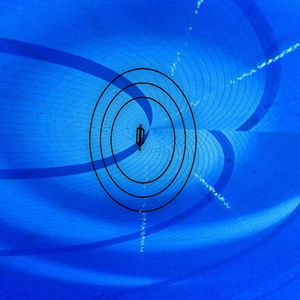circle: (88, 63, 200, 218)
submarine: (131, 120, 153, 154)
